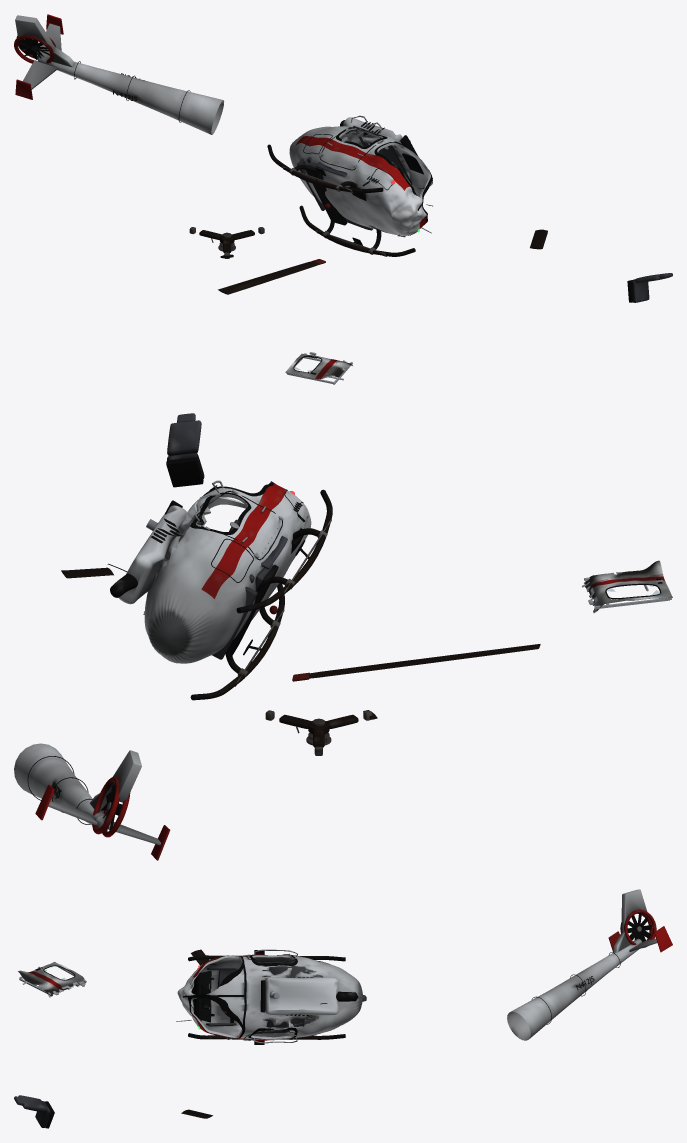
Rendered from helicopter_wreck.glb.
3 views of the same model, one above another, from view 1: azimuth 30°, elevation 25°; view 2: azimuth 150°, elevation 25°; view 3: azimuth 270°, elevation 25° (orthographic). The views are drawn at different scales.
Visible parts, largest first — view 1: WB_HeliPaint, WT_HeliPaint, WB_HeliDark, WB_HeliRed, WD_HeliPaint, WB_HeliSeat, WT_HeliRed, WA_HeliDark, WB_HeliRubber, WB_HeliMetal, WT_HeliDark, WS_HeliSeat; view 2: WB_HeliPaint, WT_HeliPaint, WB_HeliDark, WD_HeliPaint, WB_HeliRed, WT_HeliRed, WA_HeliDark, WS_HeliSeat, WB_HeliSeat, WH_HeliDark, WB_HeliMetal, WS_HeliDark (+1 smaller); view 3: WB_HeliPaint, WT_HeliPaint, WB_HeliDark, WD_HeliPaint, WB_HeliRubber, WB_HeliSeat, WT_HeliRed, WT_HeliDark, WS_HeliSeat, WB_HeliMetal.
Boxes of the visible parts, left/top/right/bottom form: WB_HeliPaint: left=289, top=117, right=432, bottom=235; WT_HeliPaint: left=15, top=15, right=224, bottom=134; WB_HeliDark: left=267, top=120, right=432, bottom=256; WB_HeliRed: left=296, top=136, right=426, bottom=228; WD_HeliPaint: left=285, top=352, right=352, bottom=384; WB_HeliSeat: left=297, top=126, right=412, bottom=230; WT_HeliRed: left=14, top=14, right=63, bottom=99; WA_HeliDark: left=218, top=261, right=322, bottom=294; WB_HeliRubber: left=315, top=127, right=432, bottom=245; WB_HeliMetal: left=282, top=115, right=431, bottom=256; WT_HeliDark: left=18, top=38, right=190, bottom=122; WS_HeliSeat: left=631, top=273, right=672, bottom=302; WB_HeliPaint: left=118, top=485, right=311, bottom=663; WT_HeliPaint: left=14, top=743, right=161, bottom=845; WB_HeliDark: left=107, top=486, right=332, bottom=700; WD_HeliPaint: left=582, top=560, right=672, bottom=612; WB_HeliRed: left=201, top=483, right=287, bottom=614; WT_HeliRed: left=35, top=776, right=170, bottom=860; WA_HeliDark: left=300, top=644, right=540, bottom=679; WS_HeliSeat: left=167, top=413, right=204, bottom=478; WB_HeliSeat: left=178, top=503, right=287, bottom=659; WH_HeliDark: left=279, top=710, right=377, bottom=747; WB_HeliMetal: left=143, top=480, right=331, bottom=686; WS_HeliDark: left=166, top=457, right=203, bottom=487; WB_HeliPaint: left=177, top=955, right=362, bottom=1040; WT_HeliPaint: left=507, top=889, right=657, bottom=1040; WB_HeliDark: left=182, top=955, right=358, bottom=1039; WD_HeliPaint: left=18, top=962, right=86, bottom=997; WB_HeliRubber: left=188, top=950, right=297, bottom=1044; WB_HeliSeat: left=206, top=961, right=305, bottom=1033; WT_HeliRed: left=608, top=909, right=672, bottom=952; WT_HeliDark: left=531, top=913, right=651, bottom=1024; WS_HeliSeat: left=14, top=1095, right=50, bottom=1127; WB_HeliMetal: left=176, top=949, right=297, bottom=1043.
Size of the model in its own units: 9.68 by 3.17 by 16.53.
